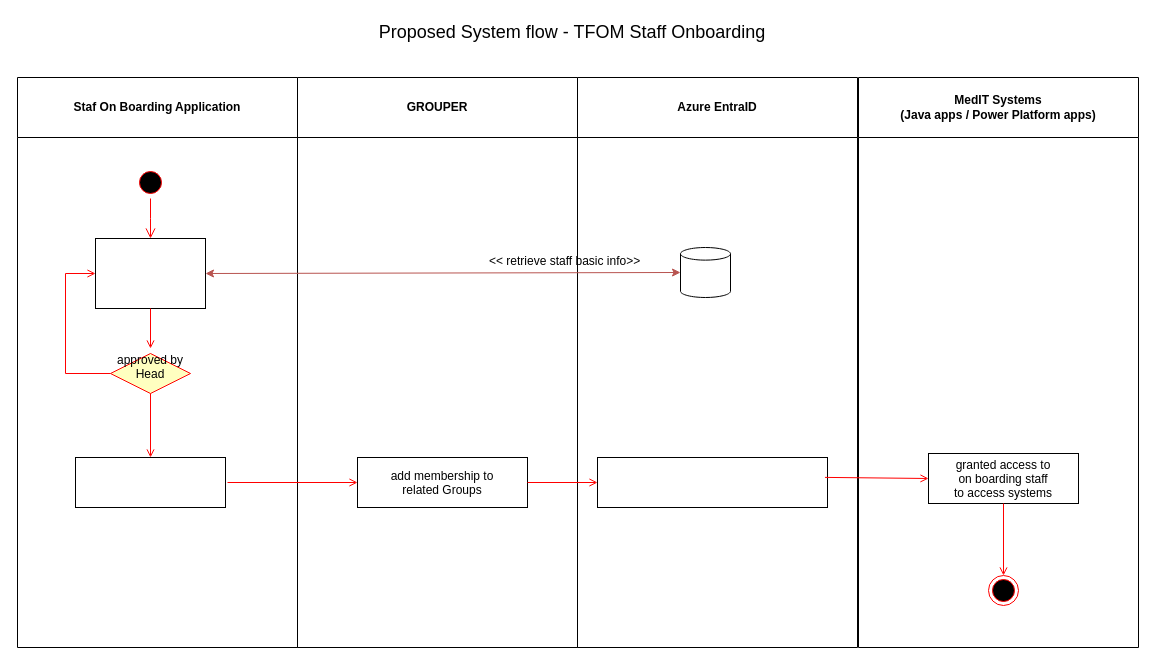
Some shapes in this 1156 by 665 pixel diagram are drawn without their labels. Here are the shapes that lost their labels. From the top down, the centre of each, then its label:
At point 150,273: "submit on boarding application by Supervisor".
At point 150,482: "send request to GROUPER".
At point 712,482: "synchronize Security Groups to EAD / Azure AD".
